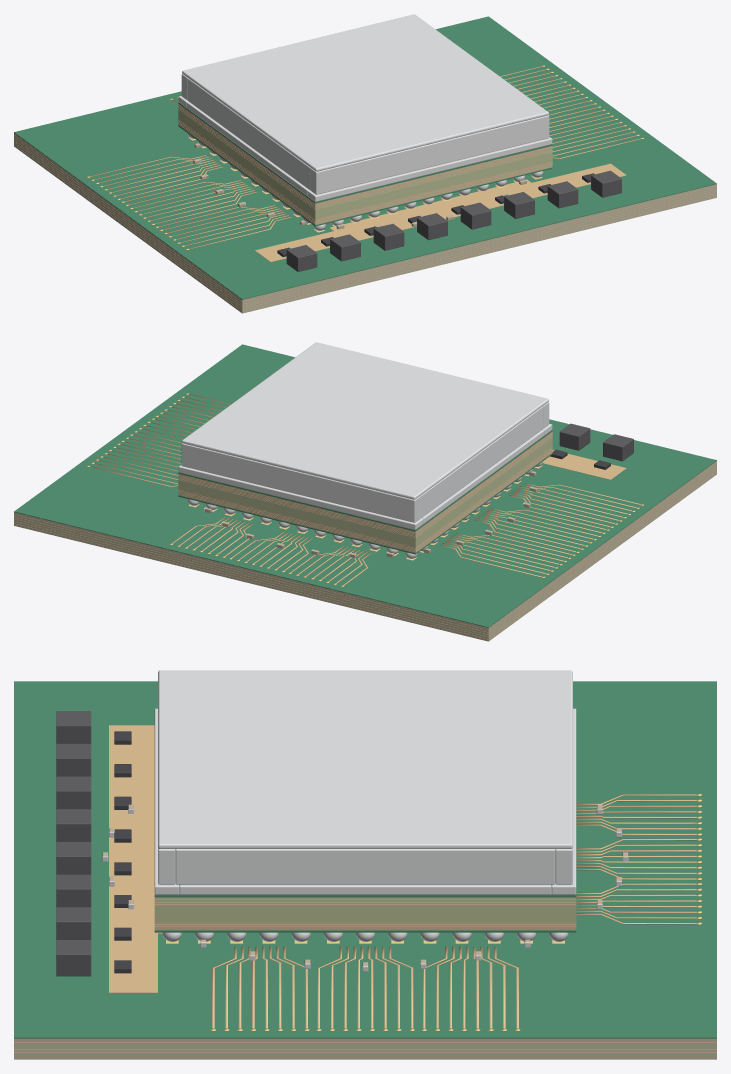
Rendered from package_scene.glb.
3 views of the same model, one above another, from view 1: azimuth 30°, elevation 25°; view 2: azimuth 150°, elevation 25°; view 3: azimuth 270°, elevation 25° (orthographic). The views are drawn at different scales.
Parts seen in each view (by area): view 1: server-pcb__mask14, lid__plate1838__e11, server-pcb__board13, server-pcb__traces329, server-pcb__components405, lid__skirt1840__e11, server-pcb__power_plane332, substrate-core__core588__e4__vorganic-core, substrate__stiffener803__e6, lid__skirt1842__e11, substrate-buildup__top797__e5, substrate-buildup__bottom587__e3 (+3 smaller); view 2: server-pcb__mask14, lid__plate1838__e11, server-pcb__board13, server-pcb__traces329, lid__skirt1839__e11, substrate-core__core588__e4__vorganic-core, substrate__stiffener803__e6, lid__skirt1842__e11, substrate-buildup__top797__e5, substrate-buildup__bottom587__e3, server-pcb__components405, bga__balls575__e1 (+3 smaller); view 3: server-pcb__mask14, lid__plate1838__e11, server-pcb__board13, lid__skirt1841__e11, server-pcb__traces329, server-pcb__components405, server-pcb__power_plane332, substrate-core__core588__e4__vorganic-core, substrate__stiffener803__e6, substrate-buildup__top797__e5, substrate-buildup__bottom587__e3, bga__balls575__e1 (+4 smaller).
Part boxes in pixels (x1,y1,x2,y2): server-pcb__mask14: (14, 16, 716, 299); lid__plate1838__e11: (182, 14, 548, 171); server-pcb__board13: (14, 133, 716, 313); server-pcb__traces329: (87, 65, 643, 250); server-pcb__components405: (193, 143, 621, 271); lid__skirt1840__e11: (310, 115, 549, 194); server-pcb__power_plane332: (255, 163, 626, 261); substrate-core__core588__e4__vorganic-core: (178, 109, 552, 218); substrate__stiffener803__e6: (178, 96, 552, 201); lid__skirt1842__e11: (187, 78, 310, 190); substrate-buildup__top797__e5: (178, 103, 552, 209); substrate-buildup__bottom587__e3: (178, 119, 552, 224); server-pcb__mask14: (14, 344, 716, 627); lid__plate1838__e11: (182, 342, 548, 499); server-pcb__board13: (14, 461, 716, 641); server-pcb__traces329: (87, 393, 643, 586); lid__skirt1839__e11: (181, 443, 420, 522); substrate-core__core588__e4__vorganic-core: (178, 437, 552, 546); substrate__stiffener803__e6: (178, 424, 552, 529); lid__skirt1842__e11: (420, 406, 543, 518); substrate-buildup__top797__e5: (178, 431, 552, 537); substrate-buildup__bottom587__e3: (178, 447, 552, 552); server-pcb__components405: (204, 423, 633, 557); bga__balls575__e1: (187, 461, 543, 558); server-pcb__mask14: (14, 681, 716, 1038); lid__plate1838__e11: (158, 670, 572, 848); server-pcb__board13: (14, 1038, 716, 1059); lid__skirt1841__e11: (175, 849, 555, 884); server-pcb__traces329: (210, 793, 701, 1031); server-pcb__components405: (56, 711, 628, 976); server-pcb__power_plane332: (109, 725, 162, 992); substrate-core__core588__e4__vorganic-core: (154, 906, 576, 920); substrate__stiffener803__e6: (154, 708, 576, 894); substrate-buildup__top797__e5: (154, 897, 576, 906); substrate-buildup__bottom587__e3: (154, 921, 576, 930); bga__balls575__e1: (162, 932, 568, 941).
Bounding box in the file's own units: 24 × 3.9 × 20.
